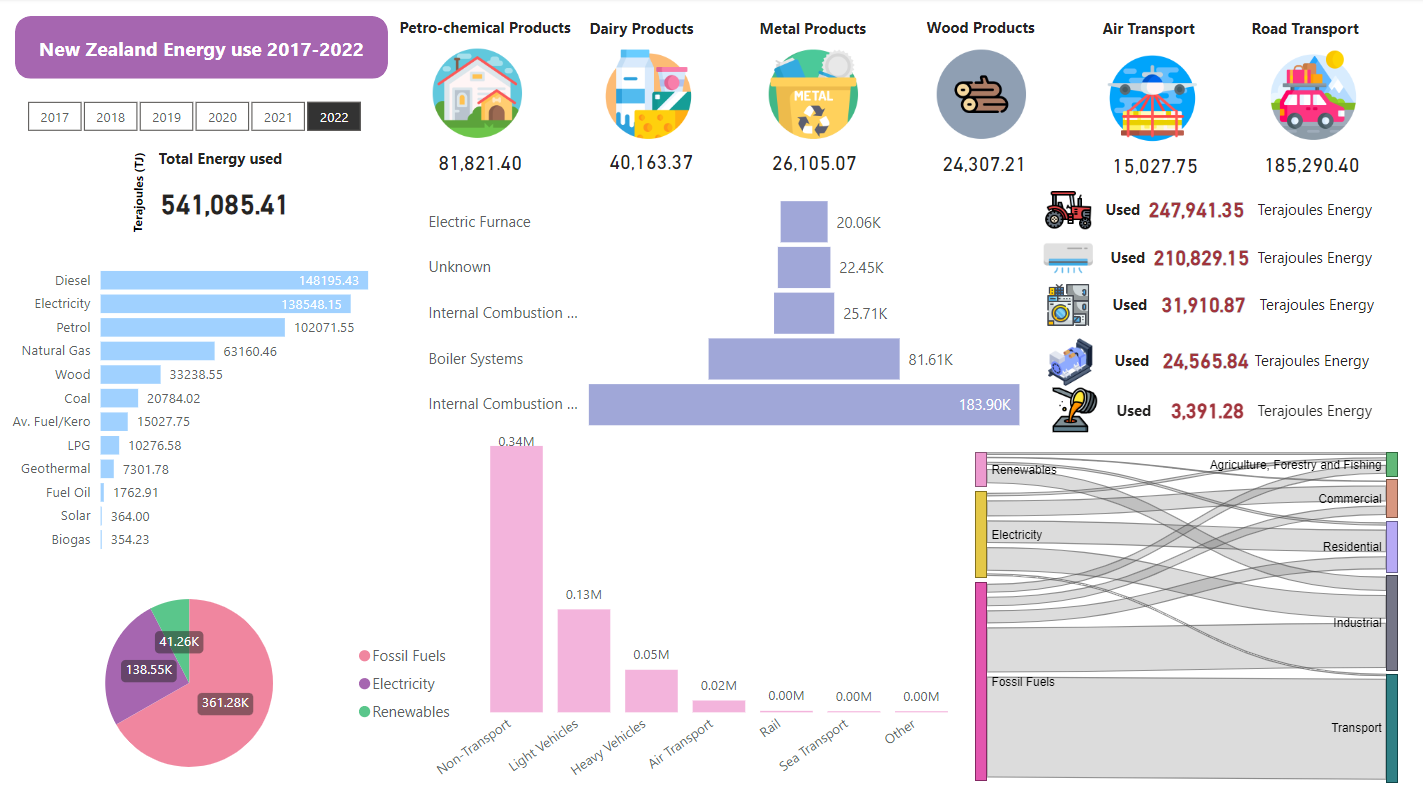

What the dashboard file says about the page in this screenshot:
{"tool":"powerbi","page":{"name":"Page 1","canvas":[1280,720],"ordinal":0},"visuals":[{"type":"textbox","box":[524.3,13.9,119.8,27.7],"z":0,"group":"g3"},{"type":"image","box":[383.8,40.6,92,90.1],"z":0,"group":"g2"},{"type":"image","box":[683.7,41.6,92,90.1],"z":0,"group":"g4"},{"type":"image","box":[835.1,41.6,92,90.1],"z":0,"group":"g5"},{"type":"image","box":[1132.1,41.7,92,90.1],"z":0,"group":"g1"},{"type":"slicer","fields":{"Values":["data-2024-11-19-868.Period"]},"box":[0.9,86,348.4,40.3],"z":0},{"type":"card","fields":{"Values":["Sum(data-2024-11-19-868.TJ)"]},"box":[94.8,155.8,215.6,55.9],"z":0,"group":"g7"},{"type":"card","fields":{"Values":["Sum(data-2024-11-19-868.TJ)"]},"box":[1023.6,174.6,99.4,30.4],"z":0,"group":"g8"},{"type":"card","fields":{"Values":["Sum(data-2024-11-19-868.TJ)"]},"box":[1028.5,218.1,99.4,30.4],"z":0,"group":"g9"},{"type":"card","fields":{"Values":["Sum(data-2024-11-19-868.TJ)"]},"box":[1029.9,259.7,99.4,30.4],"z":0,"group":"g10"},{"type":"card","fields":{"Values":["Sum(data-2024-11-19-868.TJ)"]},"box":[1031.5,310.3,99.4,30.4],"z":0,"group":"g13"},{"type":"card","fields":{"Values":["Sum(data-2024-11-19-868.TJ)"]},"box":[1033.7,355.1,99.4,30.4],"z":0,"group":"g12"},{"type":"group","id":"g1","title":"Group 1","box":[1118,13.3,117.3,150.4],"z":1000},{"type":"textbox","box":[676.8,13.9,119.8,27.7],"z":1000,"group":"g4"},{"type":"textbox","box":[138.7,129.9,146.9,36.7],"z":1000,"group":"g7"},{"type":"card","fields":{"Values":["Sum(data-2024-11-19-868.TJ)"]},"box":[536.2,131.7,97,30.7],"z":1000,"group":"g3"},{"type":"card","fields":{"Values":["Sum(data-2024-11-19-868.TJ)"]},"box":[383.8,132.7,97,30.7],"z":1000,"group":"g2"},{"type":"card","fields":{"Values":["Sum(data-2024-11-19-868.TJ)"]},"box":[835.1,133.6,97,30.7],"z":1000,"group":"g5"},{"type":"card","fields":{"Values":["Sum(data-2024-11-19-868.TJ)"]},"box":[1119.3,133.8,115.8,30.7],"z":1000,"group":"g1"},{"type":"textbox","box":[986.9,175.5,51,29.6],"z":1000,"group":"g8"},{"type":"textbox","box":[991.8,219,51,29.6],"z":1000,"group":"g9"},{"type":"textbox","box":[993.1,260.6,51,29.6],"z":1000,"group":"g10"},{"type":"textbox","box":[994.8,311.2,51,29.6],"z":1000,"group":"g13"},{"type":"textbox","box":[996.9,356,51,29.6],"z":1000,"group":"g12"},{"type":"textbox","box":[826.8,12.6,127.7,26.7],"z":2000,"group":"g5"},{"type":"group","id":"g2","title":"Group 2","box":[355,12.9,173.7,150.4],"z":2000},{"type":"textbox","box":[355,12.9,173.7,27.8],"z":2000,"group":"g2"},{"type":"textbox","box":[1118,13.3,117.8,28.7],"z":2000,"group":"g1"},{"type":"image","box":[536.2,41.6,92,90.1],"z":2000,"group":"g3"},{"type":"card","fields":{"Values":["Sum(data-2024-11-19-868.TJ)"]},"box":[681.7,132.7,97,30.7],"z":2000,"group":"g4"},{"type":"image","box":[930.8,162.6,56.3,54.2],"z":2000,"group":"g8"},{"type":"textbox","box":[1123.6,219,145.1,29.6],"z":2000,"group":"g9"},{"type":"textbox","box":[1124.9,260.6,145.1,29.6],"z":2000,"group":"g10"},{"type":"textbox","box":[1120.3,311.2,145.1,29.6],"z":2000,"group":"g13"},{"type":"textbox","box":[1122.5,356,145.1,29.6],"z":2000,"group":"g12"},{"type":"group","id":"g3","title":"Group 3","box":[524.3,13.9,119.8,148.5],"z":3000},{"type":"textbox","box":[1123,175.5,145.1,29.6],"z":3000,"group":"g8"},{"type":"image","box":[930.8,206.4,55.2,54.2],"z":3000,"group":"g9"},{"type":"image","box":[930.8,250.2,55.2,50],"z":3000,"group":"g10"},{"type":"image","box":[932.9,299.2,54.2,54.2],"z":3000,"group":"g13"},{"type":"image","box":[939.2,344,50,50],"z":3000,"group":"g12"},{"type":"shape","title":"Terajoules (TJ)","box":[111,129.9,27.8,87.8],"z":4000},{"type":"group","id":"g4","title":"Group 4","box":[676.8,13.9,119.8,149.4],"z":5000},{"type":"image","box":[988.6,45.1,92,90.1],"z":5000,"group":"g6"},{"type":"group","id":"g5","title":"Group 5","box":[826.8,12.6,127.7,151.7],"z":6000},{"type":"card","fields":{"Values":["Sum(data-2024-11-19-868.TJ)"]},"box":[988.6,135.1,97,30.7],"z":7000,"group":"g6"},{"type":"barChart","fields":{"Category":["data-2024-11-19-868.Fuel"],"Y":["Sum(data-2024-11-19-868.TJ)"]},"box":[1,222.7,338.5,284],"z":7000},{"type":"textbox","box":[984.6,13.4,103.9,27.7],"z":8000,"group":"g6"},{"type":"funnel","fields":{"Category":["data-2024-11-19-868.Technology"],"Y":["Sum(data-2024-11-19-868.TJ)"]},"box":[380.5,173,544.1,218.9],"z":8000},{"type":"columnChart","fields":{"Category":["data-2024-11-19-868.Transport"],"Y":["Sum(data-2024-11-19-868.TJ)"]},"box":[380.5,378.4,500.3,341.9],"z":9000},{"type":"pieChart","fields":{"Category":["data-2024-11-19-868.FuelGroup"],"Y":["Sum(data-2024-11-19-868.TJ)"]},"box":[15.2,506.9,403.9,213.1],"z":10000},{"type":"sankey02300D1BE6F5427989F3DE31CCA9E0F32020","fields":{"Source":["data-2024-11-19-868.FuelGroup"],"Destination":["data-2024-11-19-868.SectorGroup"],"Weight":["Sum(data-2024-11-19-868.TJ)"]},"box":[861,391.9,419,328.3],"z":11000},{"type":"group","id":"g6","title":"Group 6","box":[984.6,13.4,103.9,152.4],"z":12000},{"type":"group","id":"g7","title":"Group 7","box":[94.8,129.9,215.6,81.8],"z":13000},{"type":"group","id":"g8","title":"Group 8","box":[930.8,162.6,337.3,54.2],"z":14000},{"type":"group","id":"g9","title":"Group 9","box":[930.8,206.4,337.9,54.2],"z":15000},{"type":"group","id":"g10","title":"Group 10","box":[930.8,250.2,339.2,50],"z":16000},{"type":"group","id":"g11","title":"Group 11","box":[932.9,299.2,332.5,54.2],"z":17000},{"type":"group","id":"g12","title":"Group 12","box":[939.2,344,328.3,50],"z":18000},{"type":"shape","box":[15.2,16.1,334,56.4],"z":18001},{"type":"group","id":"g13","title":"Group 13","box":[932.9,299.2,332.5,54.2],"z":18001,"group":"g11"}]}

Visuals, with their boxes in screenshot pixels (x1, y1, x2, y2), scaled from the page's 1280x720 canvas onto the 1423x796 screenshot:
textbox: BBox(583, 15, 716, 46)
image: BBox(427, 45, 529, 144)
image: BBox(760, 46, 862, 146)
image: BBox(928, 46, 1031, 146)
image: BBox(1259, 46, 1361, 146)
slicer - data-2024-11-19-868.Period: BBox(1, 95, 388, 140)
card - Sum(data-2024-11-19-868.TJ): BBox(105, 172, 345, 234)
card - Sum(data-2024-11-19-868.TJ): BBox(1138, 193, 1248, 227)
card - Sum(data-2024-11-19-868.TJ): BBox(1143, 241, 1254, 275)
card - Sum(data-2024-11-19-868.TJ): BBox(1145, 287, 1255, 321)
card - Sum(data-2024-11-19-868.TJ): BBox(1147, 343, 1257, 377)
card - Sum(data-2024-11-19-868.TJ): BBox(1149, 393, 1260, 426)
"Group 1" group: BBox(1243, 15, 1373, 181)
textbox: BBox(752, 15, 886, 46)
textbox: BBox(154, 144, 318, 184)
card - Sum(data-2024-11-19-868.TJ): BBox(596, 146, 704, 180)
card - Sum(data-2024-11-19-868.TJ): BBox(427, 147, 535, 181)
card - Sum(data-2024-11-19-868.TJ): BBox(928, 148, 1036, 182)
card - Sum(data-2024-11-19-868.TJ): BBox(1244, 148, 1373, 182)
textbox: BBox(1097, 194, 1154, 227)
textbox: BBox(1103, 242, 1159, 275)
textbox: BBox(1104, 288, 1161, 321)
textbox: BBox(1106, 344, 1163, 377)
textbox: BBox(1108, 394, 1165, 426)
textbox: BBox(919, 14, 1061, 43)
"Group 2" group: BBox(395, 14, 588, 181)
textbox: BBox(395, 14, 588, 45)
textbox: BBox(1243, 15, 1374, 46)
image: BBox(596, 46, 698, 146)
card - Sum(data-2024-11-19-868.TJ): BBox(758, 147, 866, 181)
image: BBox(1035, 180, 1097, 240)
textbox: BBox(1249, 242, 1410, 275)
textbox: BBox(1251, 288, 1412, 321)
textbox: BBox(1245, 344, 1407, 377)
textbox: BBox(1248, 394, 1409, 426)
"Group 3" group: BBox(583, 15, 716, 180)
textbox: BBox(1248, 194, 1410, 227)
image: BBox(1035, 228, 1096, 288)
image: BBox(1035, 277, 1096, 332)
image: BBox(1037, 331, 1097, 391)
image: BBox(1044, 380, 1100, 436)
"Terajoules (TJ)" shape: BBox(123, 144, 154, 241)
"Group 4" group: BBox(752, 15, 886, 181)
image: BBox(1099, 50, 1201, 149)
"Group 5" group: BBox(919, 14, 1061, 182)
card - Sum(data-2024-11-19-868.TJ): BBox(1099, 149, 1207, 183)
barChart - data-2024-11-19-868.Fuel x Sum(data-2024-11-19-868.TJ): BBox(1, 246, 377, 560)
textbox: BBox(1095, 15, 1210, 45)
funnel - data-2024-11-19-868.Technology x Sum(data-2024-11-19-868.TJ): BBox(423, 191, 1028, 433)
columnChart - data-2024-11-19-868.Transport x Sum(data-2024-11-19-868.TJ): BBox(423, 418, 979, 795)
pieChart - data-2024-11-19-868.FuelGroup x Sum(data-2024-11-19-868.TJ): BBox(17, 560, 466, 795)
sankey02300D1BE6F5427989F3DE31CCA9E0F32020 - data-2024-11-19-868.FuelGroup x data-2024-11-19-868.SectorGroup: BBox(957, 433, 1422, 795)
"Group 6" group: BBox(1095, 15, 1210, 183)
"Group 7" group: BBox(105, 144, 345, 234)
"Group 8" group: BBox(1035, 180, 1410, 240)
"Group 9" group: BBox(1035, 228, 1410, 288)
"Group 10" group: BBox(1035, 277, 1412, 332)
"Group 11" group: BBox(1037, 331, 1407, 391)
"Group 12" group: BBox(1044, 380, 1409, 436)
shape: BBox(17, 18, 388, 80)
"Group 13" group: BBox(1037, 331, 1407, 391)
